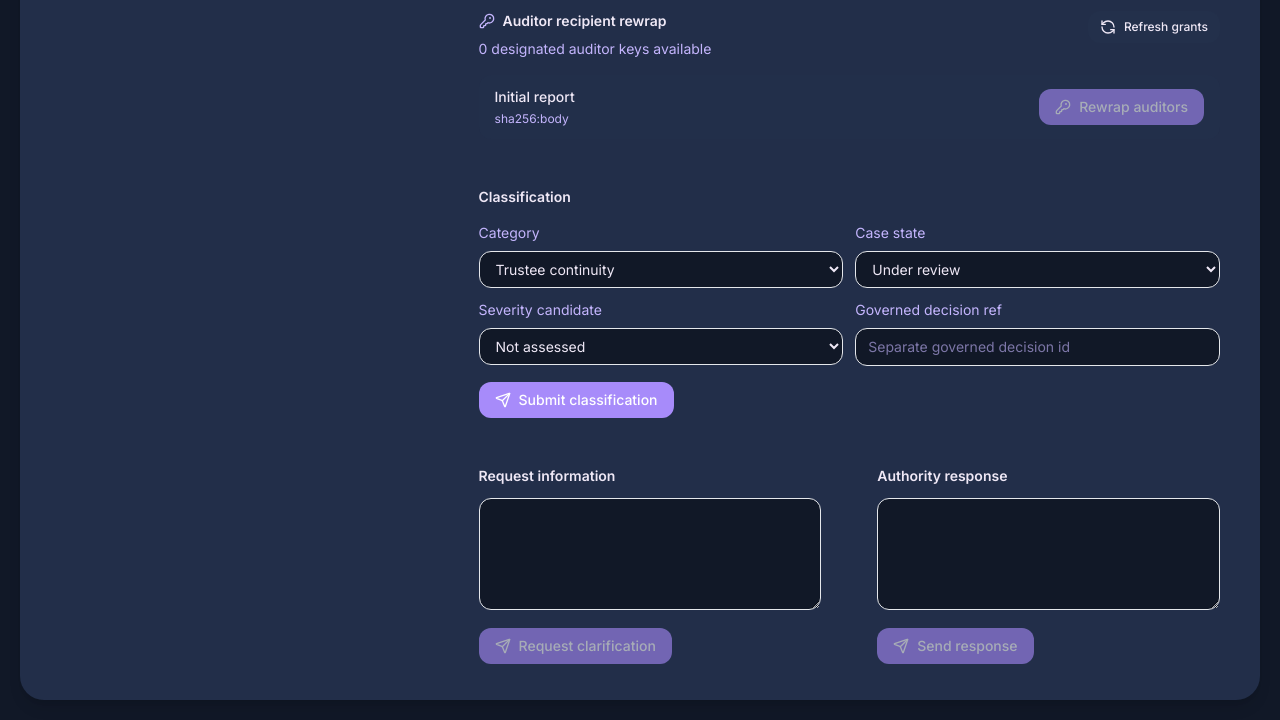
OwnerAnomalyWorkspacePanel › requests clarification for registered external claimant threads through the thread action
The width and height of the screenshot is (1280, 720).
(page scrolled)
Type "Please provide the missing claimant detail." into the text box named "Clarification request body" at (650, 554), box 478,498 -> 821,610
(page scrolled)
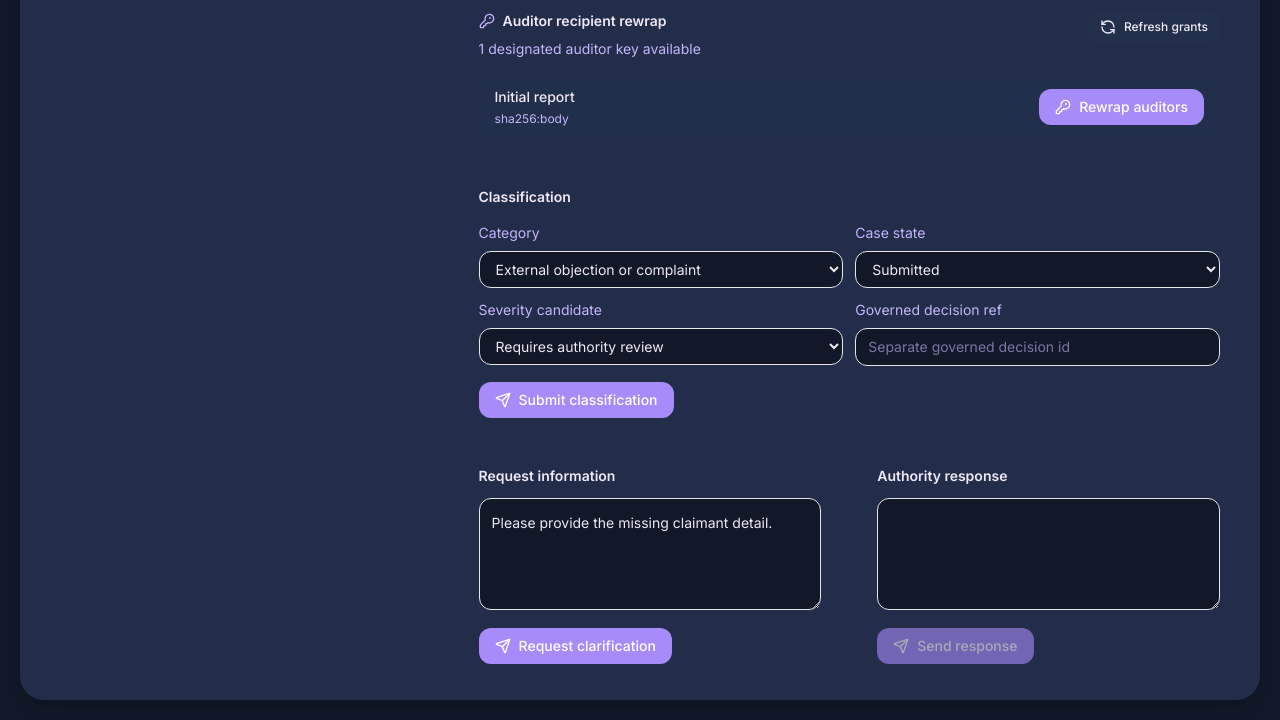
Click the button "Request clarification" at (575, 646), box 478,628 -> 672,664
(page scrolled)
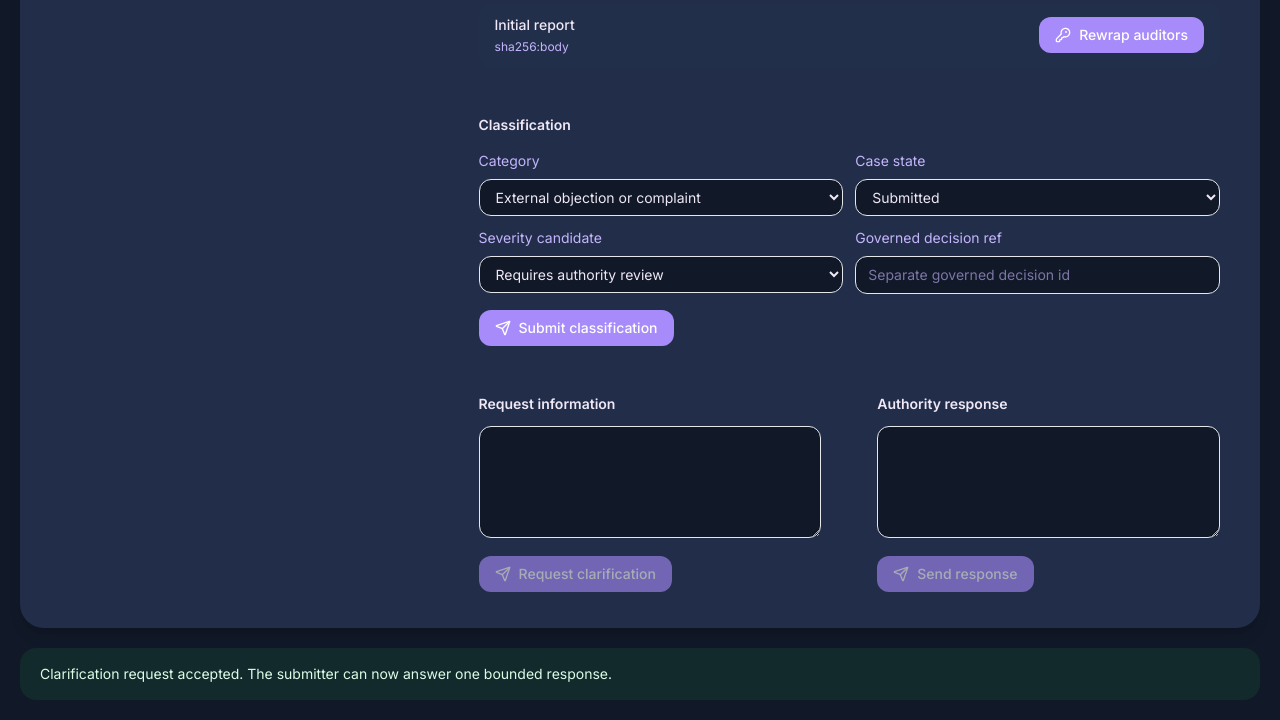
Check: the text "Clarification request accepted. The submitter can now answer one bounded response." is shown, box 40,665 -> 612,682
